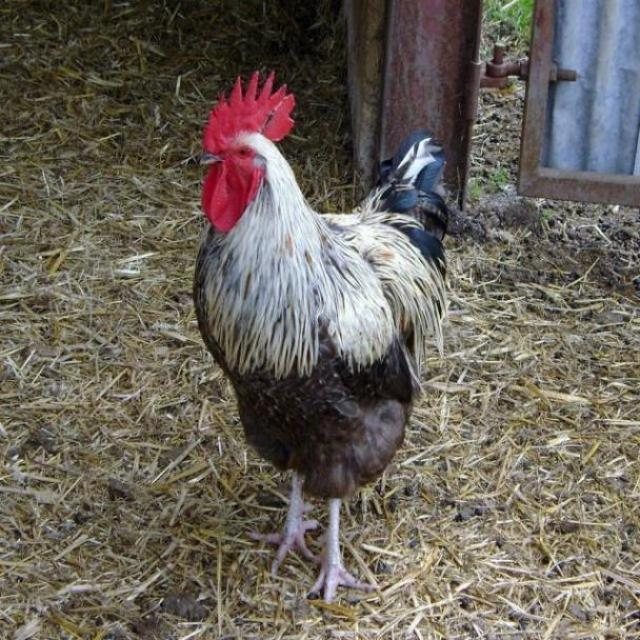Chicken: (190, 72, 451, 611)
